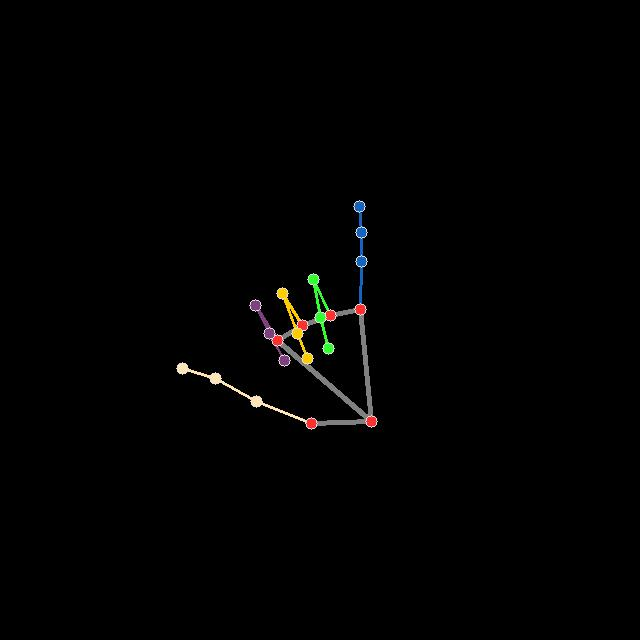skr: (176, 198, 380, 431)
